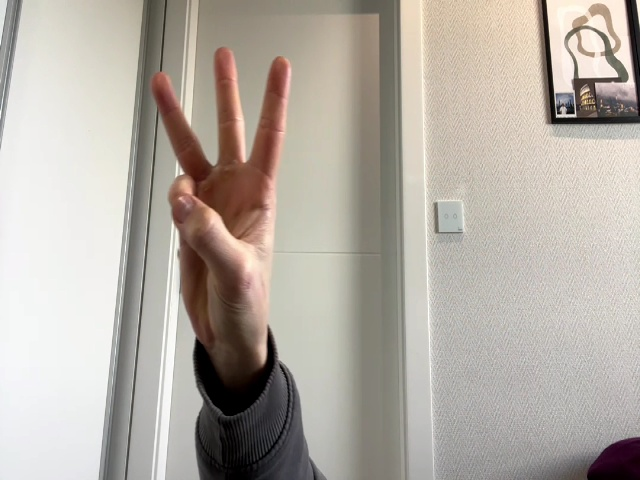W: (151, 47, 292, 335)
